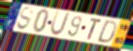0: (31, 9, 50, 35)
9: (67, 16, 82, 38)
D: (95, 19, 118, 44)
S: (15, 6, 35, 32)
T: (86, 17, 103, 42)
U: (49, 10, 72, 37)
